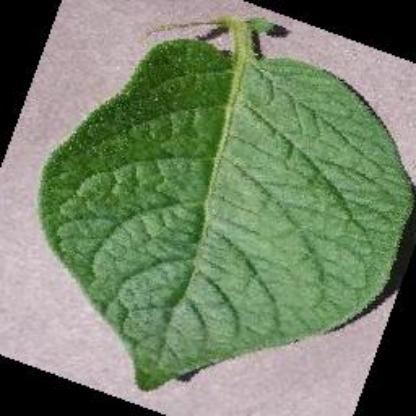Healthy-plant: (21, 13, 416, 402)
